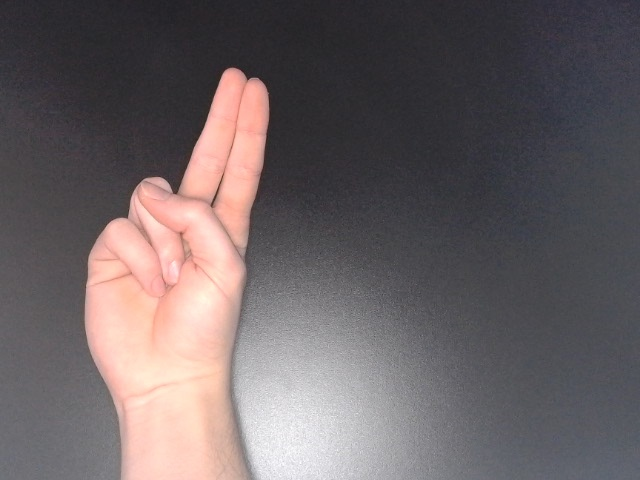u: (78, 64, 274, 436)
